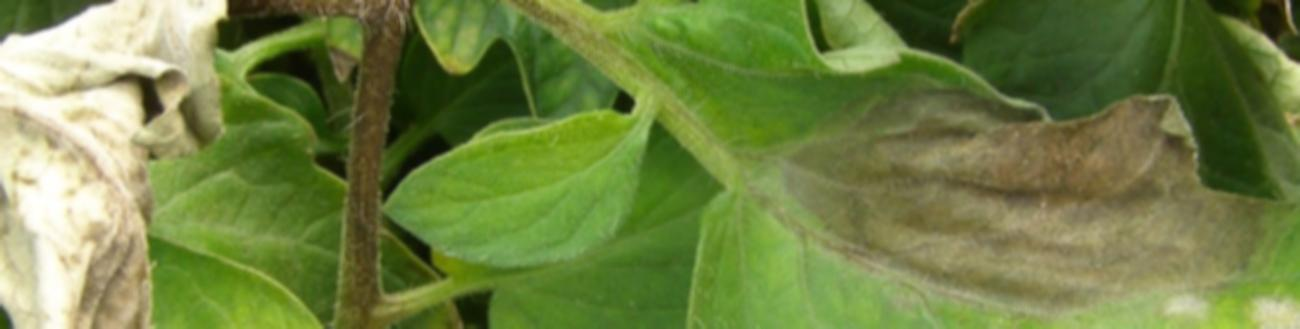Tomato mold leaf: (667, 0, 1300, 329), (374, 90, 662, 281)
